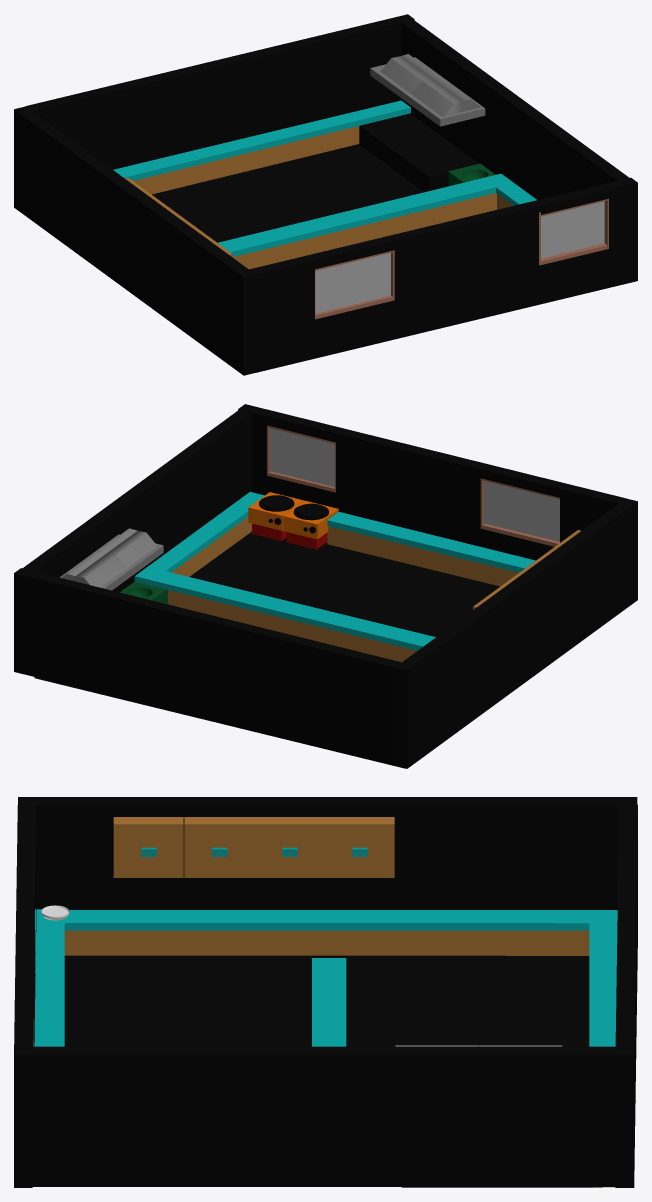
Rendered from Cocina ya mejor.fbx.
3 views of the same model, one above another, from view 1: azimuth 30°, elevation 25°; view 2: azimuth 150°, elevation 25°; view 3: azimuth 270°, elevation 25° (orthographic). The views are drawn at different scales.
Visible parts, largest first — view 1: pCube39; view 2: pCube39; view 3: pCube39.
Boxes of the visible parts, box(x1,y1,x2,y2) form: pCube39: box(14, 14, 637, 375); pCube39: box(14, 404, 637, 768); pCube39: box(14, 797, 637, 1187).
Bounding box in the file's own units: 21.23 × 5.35 × 21.67.
